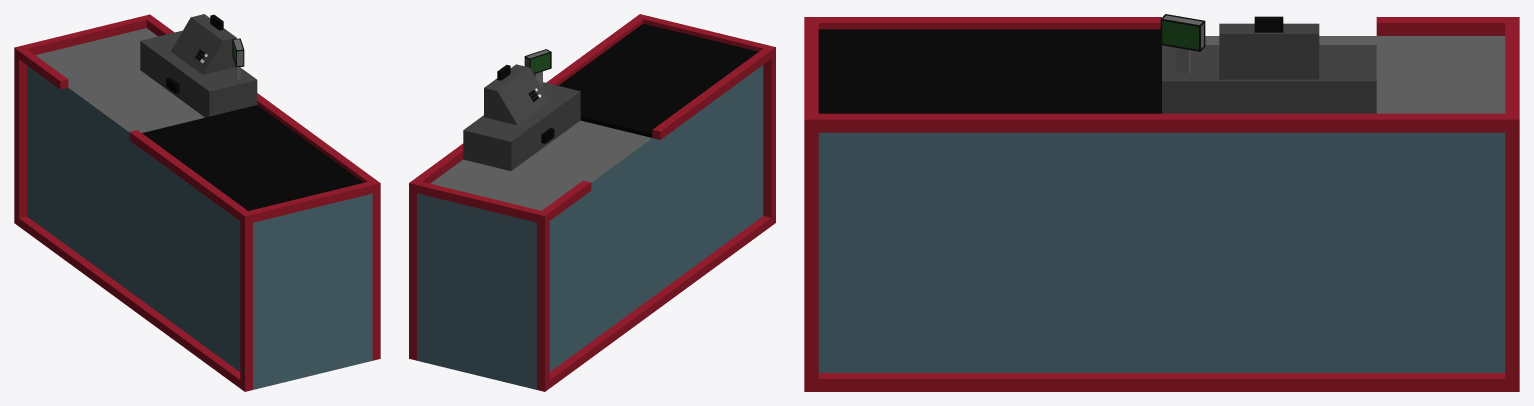
The model's file is register.fbx.
3 views of the same model, side by side, from view 1: azimuth 30°, elevation 25°; view 2: azimuth 150°, elevation 25°; view 3: azimuth 270°, elevation 25° (orthographic). The views are drawn at different scales.
Parts seen in each view (by area): view 1: Cube; view 2: Cube; view 3: Cube.
Part boxes in pixels (left/top/right/bottom): Cube: left=14, top=14, right=380, bottom=391; Cube: left=409, top=14, right=775, bottom=391; Cube: left=804, top=14, right=1519, bottom=391.
Bounding box in the file's own units: 748 × 1232 × 2200.
